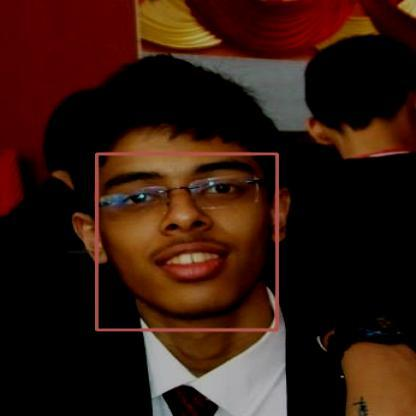without_mask: (96, 154, 277, 330)
